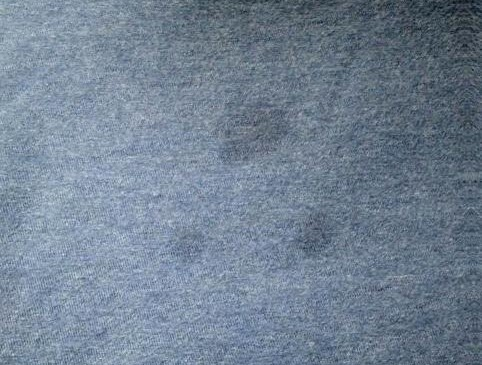stain: (204, 96, 298, 167), (288, 206, 339, 255), (162, 225, 213, 267)
